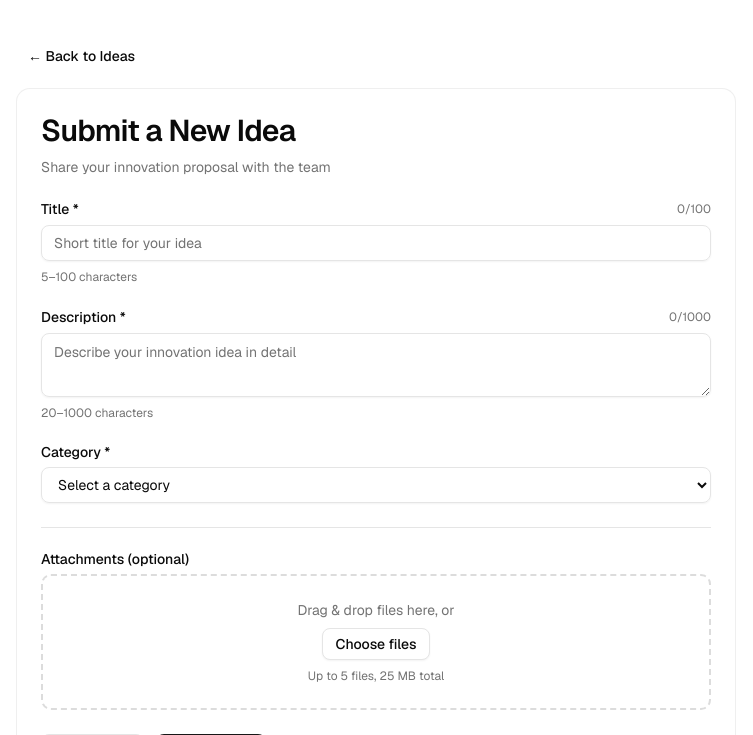
NewIdeaPage — submission success flow › disables submit button while loading
The image size is (753, 735).
Type "A Valid Title For Testing" into the field labelled "Title *" at x=376, y=243, box [41,225,711,261]
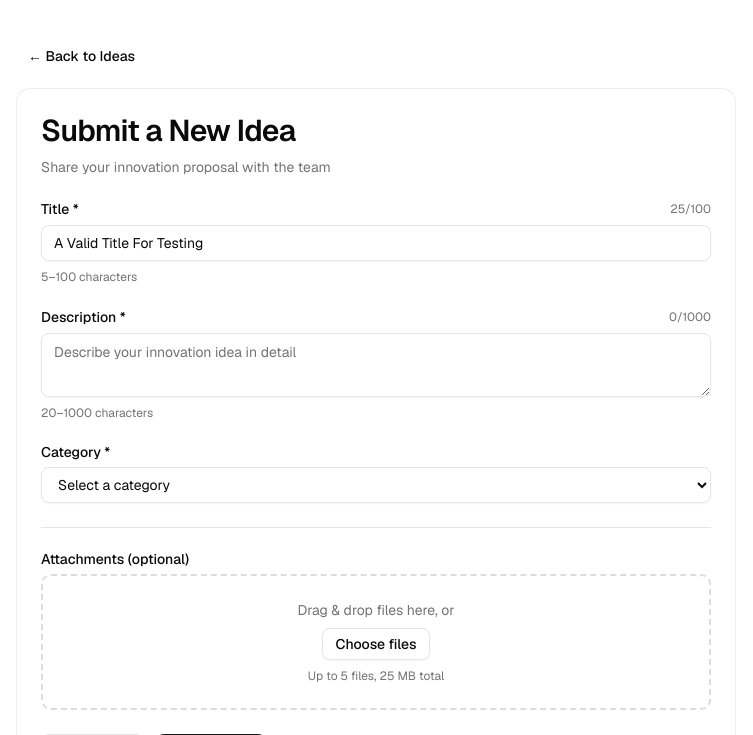
Type "This is a sufficiently long description to pass the base field validation checks." into the text box labelled "Description *" at x=376, y=365, box [41,333,711,397]
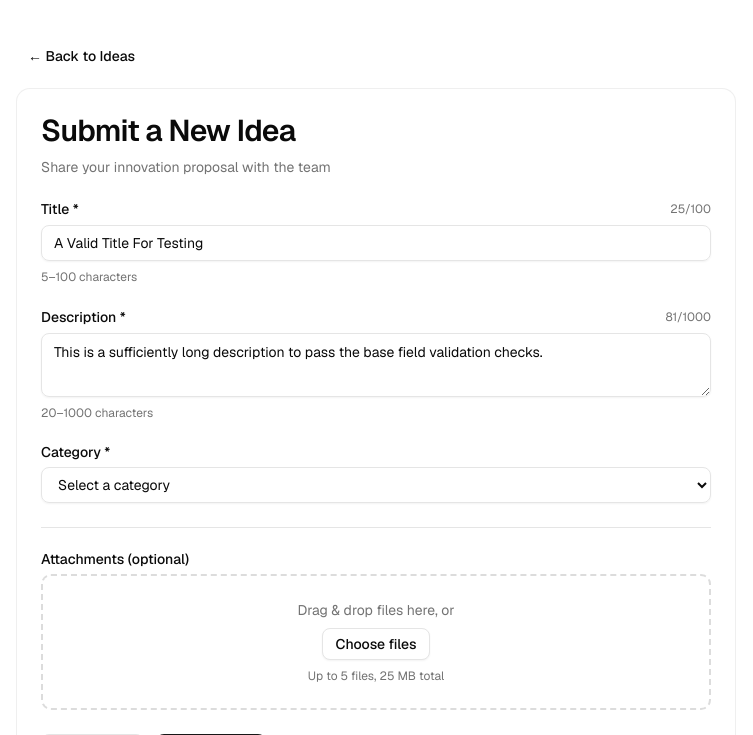
Select "Cost Reduction" in the dropdown labelled "Category *" at x=376, y=485, box [41,467,711,503]
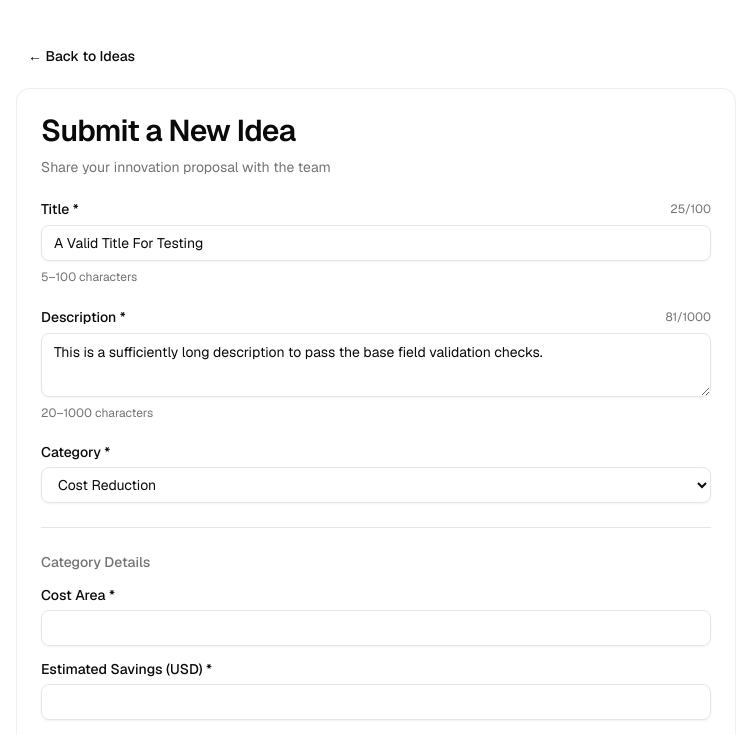
Type "Cloud" into the field labelled "Cost Area *" at x=376, y=628, box [41,610,711,646]
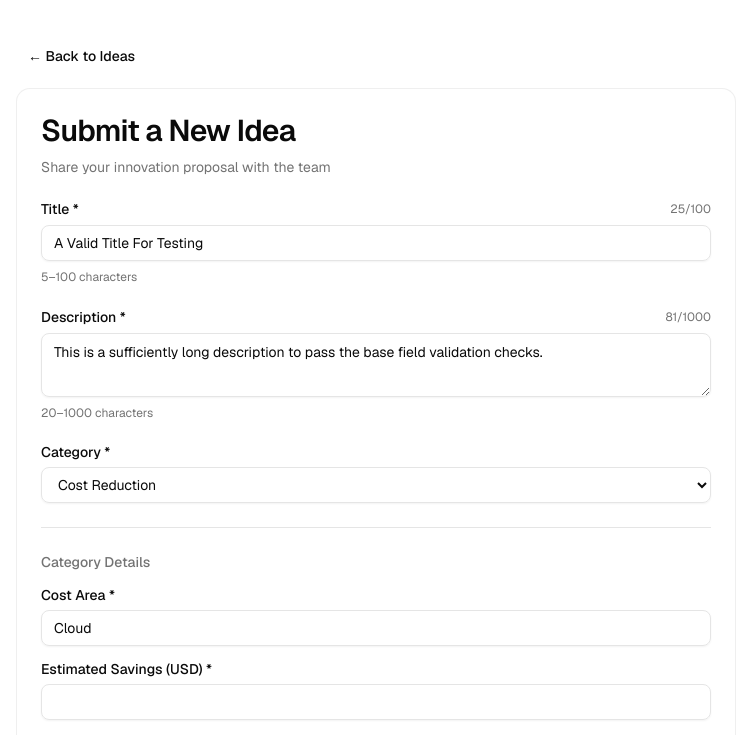
Type "5000" into the number field labelled "Estimated Savings (USD) *" at x=376, y=702, box [41,684,711,720]
(page scrolled)
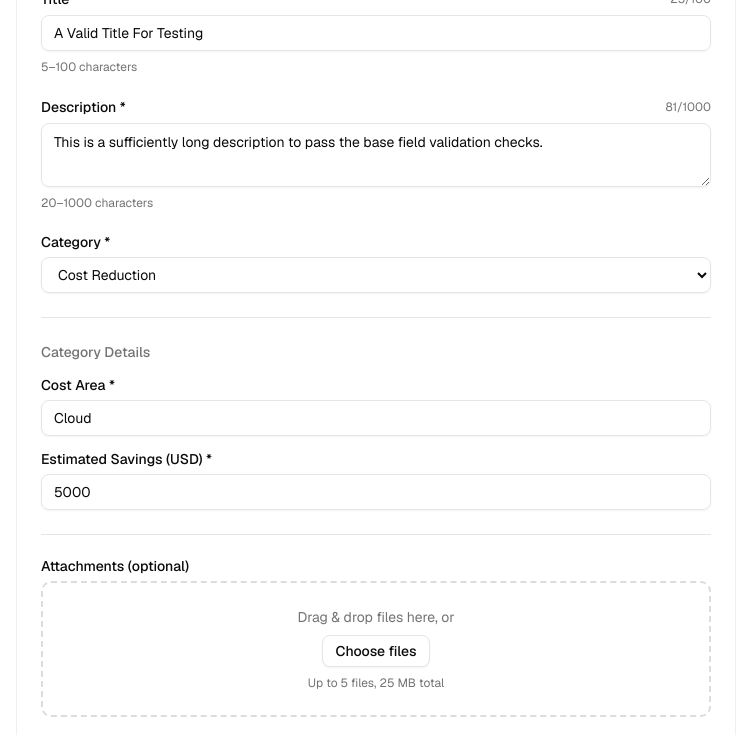
Submit the form named "submit idea"
(page scrolled)
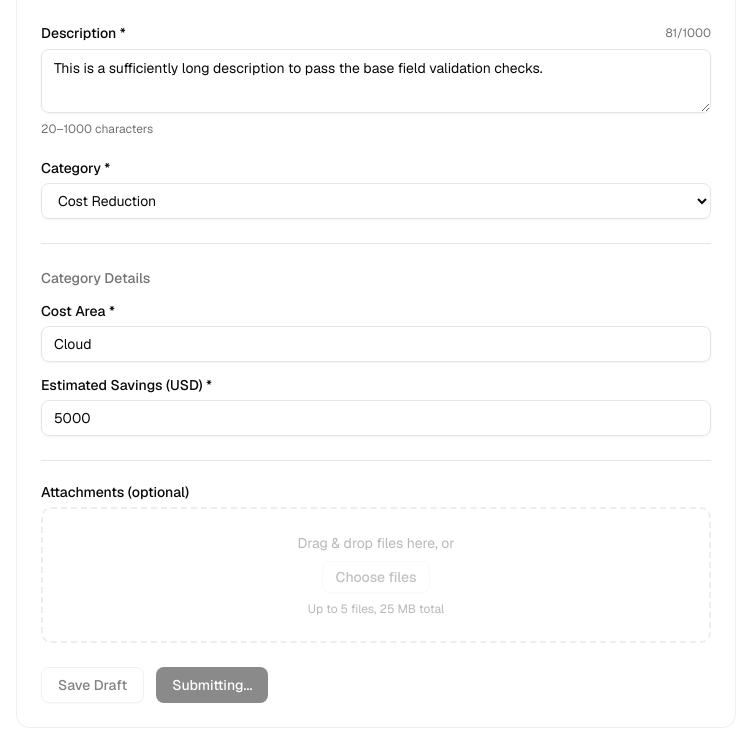
Now the button "Submitting..." is disabled, box [156,667,268,703]
